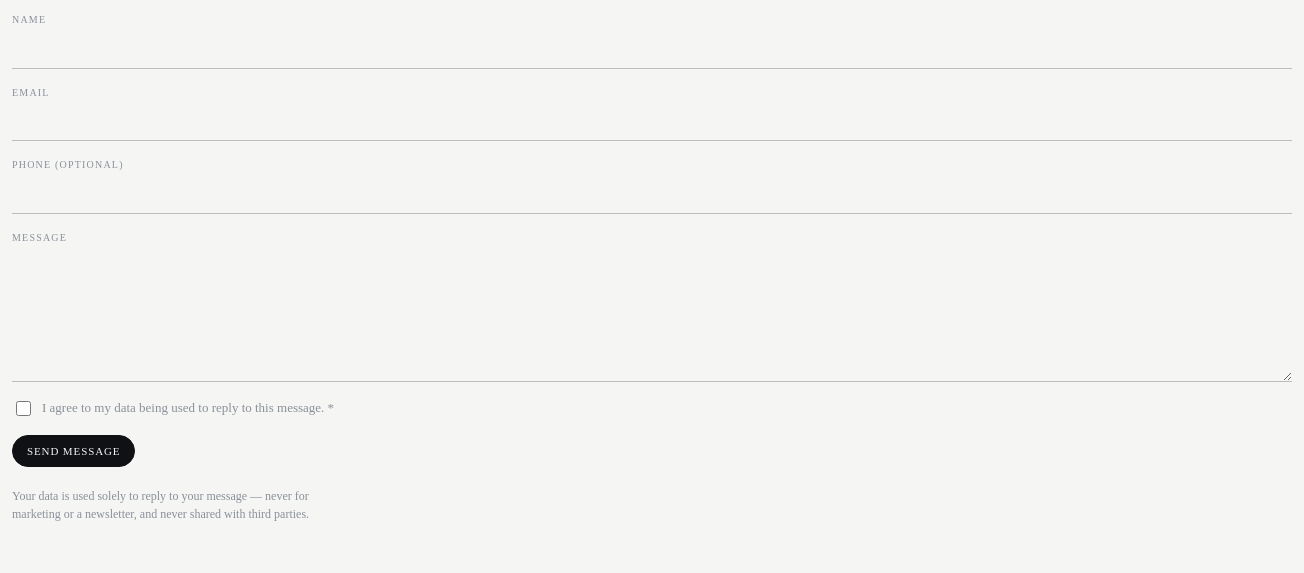
Test: ContactForm › shows a translated error and keeps the input on server failure
The image size is (1304, 573).
Step 1. Type "Jane Doe" into the field labelled "Name" → (652, 51), box 12,34 -> 1292,68
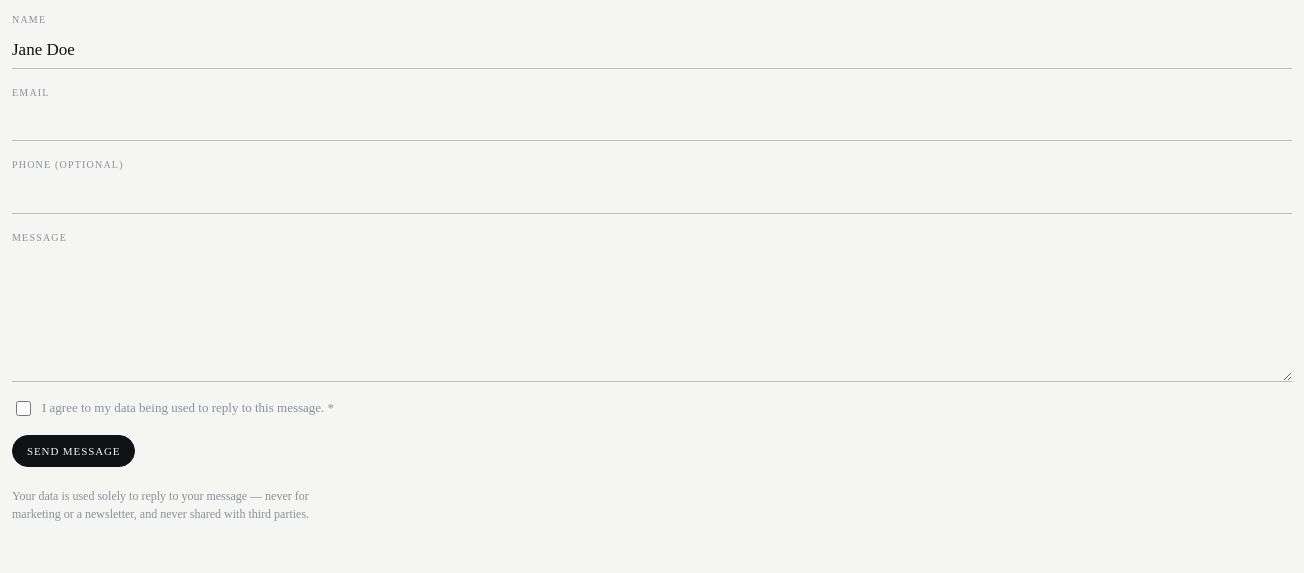
Step 2. Type "jane@example.com" into the field labelled "Email" → (652, 124), box 12,106 -> 1292,141
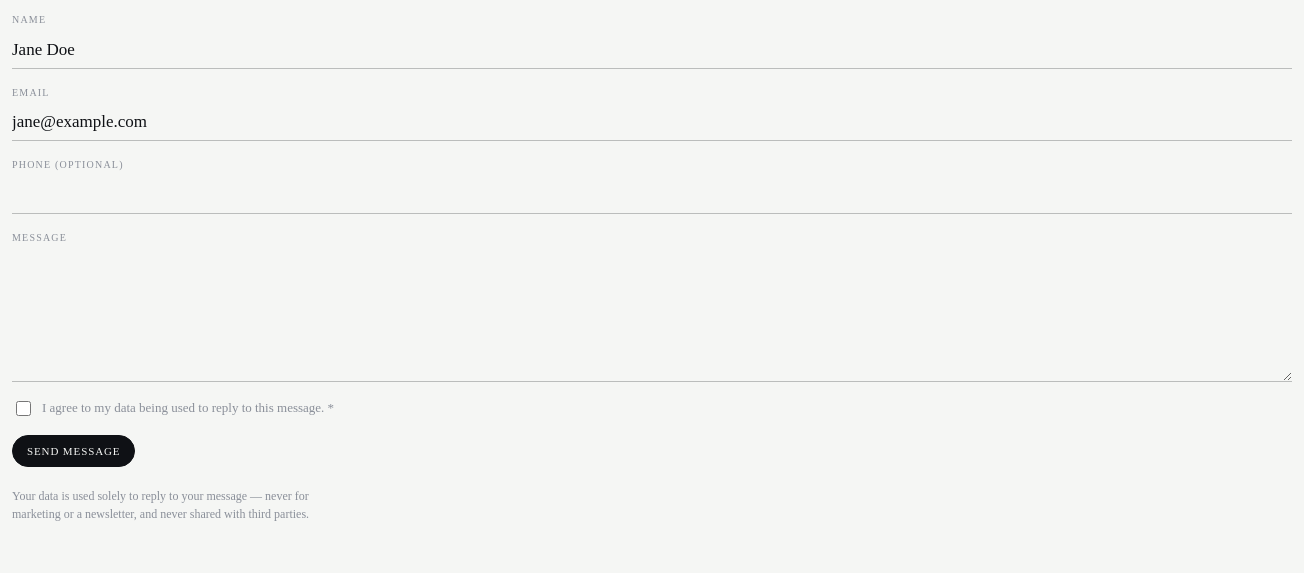
Step 3. Type "Hello there." into the text box labelled "Message" → (652, 317), box 12,251 -> 1292,382
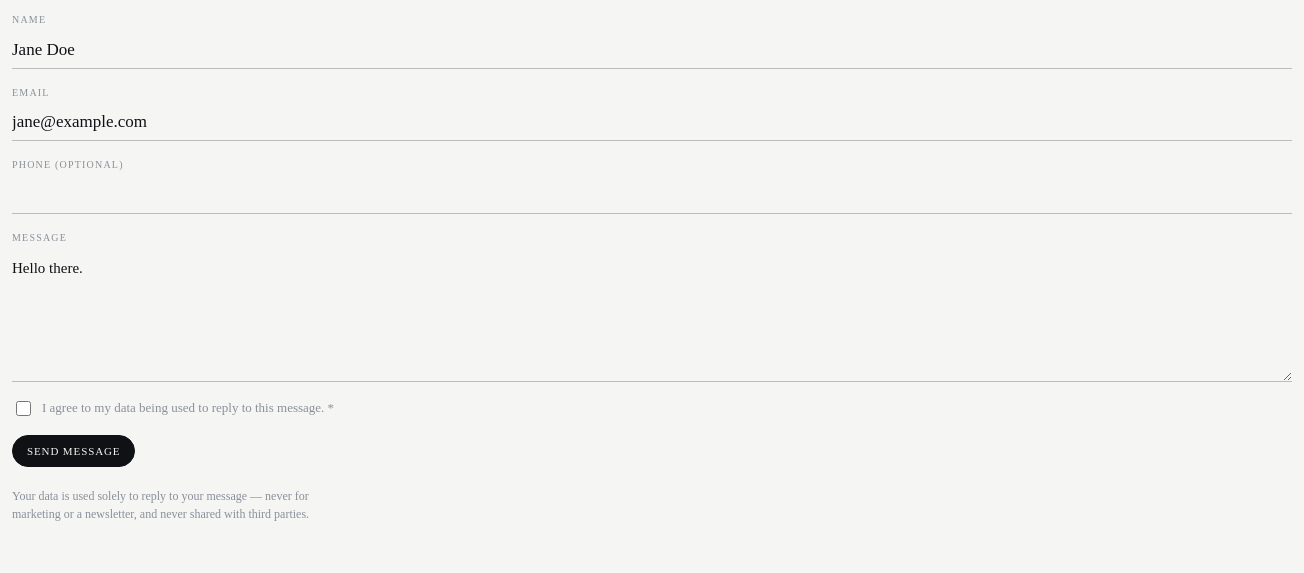
Step 4. Click the checkbox labelled "I agree to my data being used to reply to this message. *" → (24, 409), box 16,401 -> 31,416
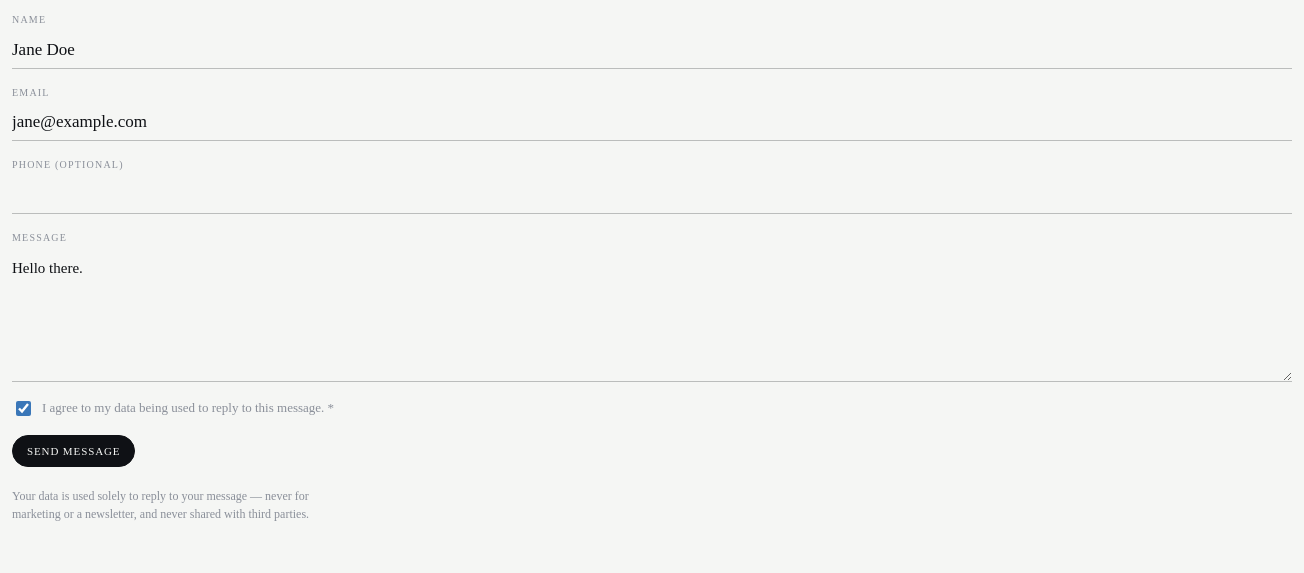
Step 5. Click the button "Send message" → (74, 451), box 12,435 -> 135,467
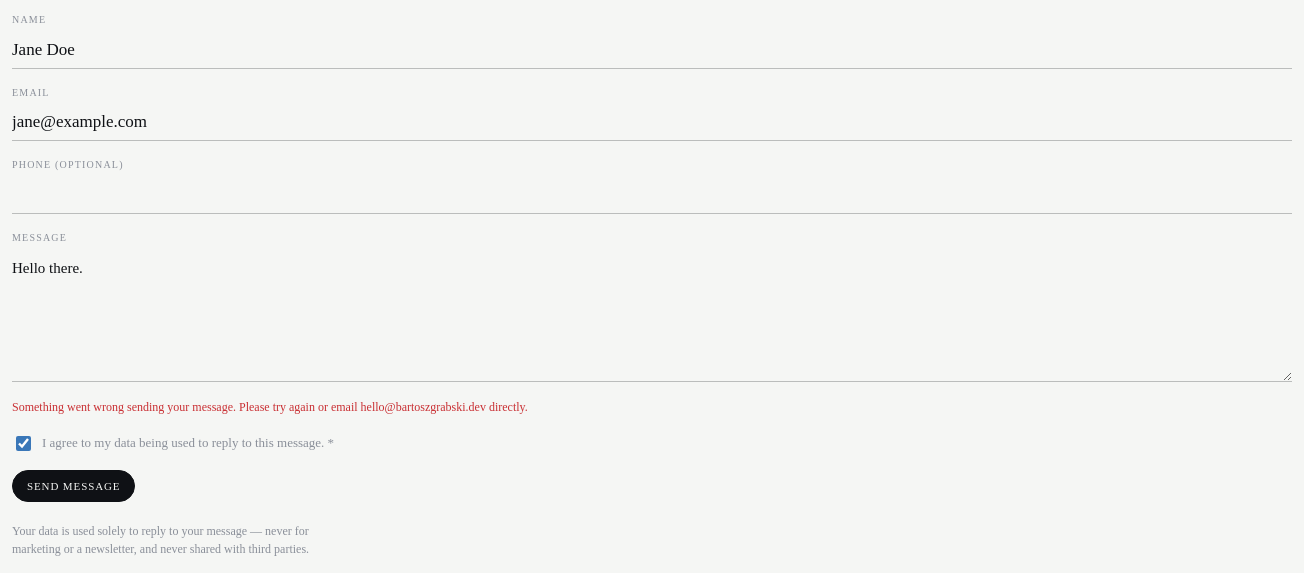
Check: the text "Something went wrong sending your message" is shown, box 12,400 -> 528,414
